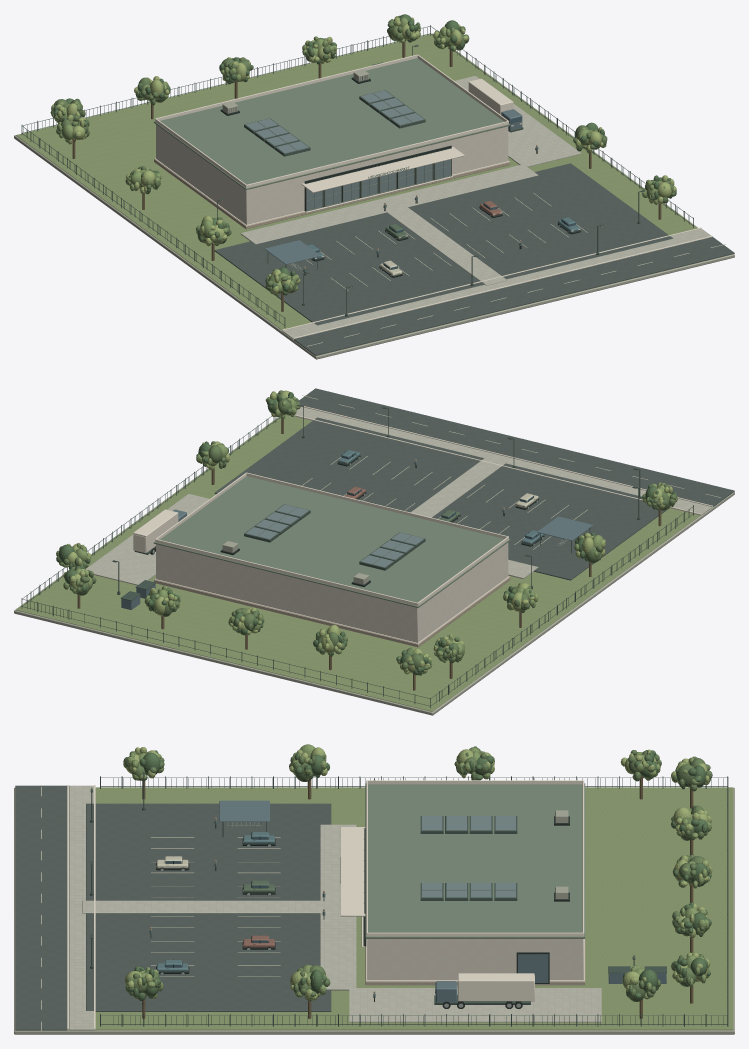
Rendered from supermarket-connected.glb.
3 views of the same model, one above another, from view 1: azimuth 30°, elevation 25°; view 2: azimuth 150°, elevation 25°; view 3: azimuth 270°, elevation 25° (orthographic). The views are drawn at different scales.
Parts seen in each view (by area): view 1: 材质批次_asphalt, 材质批次_grass, 材质批次_sage_metal_roof, 材质批次_plaza_paving, 材质批次_limestone, 材质批次_warm_cream_trim, 材质批次_street_metal, 材质批次_poi_window_lit, 材质批次_poi_service_concrete, 材质批次_leaf_2, 材质批次_leaf_0, 材质批次_leaf_1 (+7 smaller); view 2: 材质批次_grass, 材质批次_asphalt, 材质批次_sage_metal_roof, 材质批次_limestone, 材质批次_plaza_paving, 材质批次_warm_cream_trim, 材质批次_street_metal, 材质批次_poi_service_concrete, 材质批次_leaf_1, 材质批次_leaf_2, 材质批次_leaf_0, 材质批次_leaf_3 (+5 smaller); view 3: 材质批次_asphalt, 材质批次_grass, 材质批次_sage_metal_roof, 材质批次_plaza_paving, 材质批次_warm_cream_trim, 材质批次_limestone, 材质批次_street_metal, 材质批次_poi_service_concrete, 材质批次_leaf_1, 材质批次_leaf_3, 材质批次_leaf_2, 材质批次_leaf_0 (+7 smaller).
Part boxes in pixels (x1=…): 材质批次_asphalt: x1=214, y1=163, x2=734, y2=355; 材质批次_grass: x1=16, y1=33, x2=697, y2=329; 材质批次_sage_metal_roof: x1=153, y1=58, x2=510, y2=189; 材质批次_plaza_paving: x1=240, y1=75, x2=711, y2=338; 材质批次_limestone: x1=156, y1=124, x2=508, y2=224; 材质批次_warm_cream_trim: x1=154, y1=54, x2=712, y2=339; 材质批次_street_metal: x1=21, y1=25, x2=693, y2=327; 材质批次_poi_window_lit: x1=245, y1=90, x2=450, y2=210; 材质批次_poi_service_concrete: x1=14, y1=33, x2=734, y2=359; 材质批次_leaf_2: x1=51, y1=16, x2=676, y2=293; 材质批次_leaf_0: x1=51, y1=17, x2=662, y2=296; 材质批次_leaf_1: x1=51, y1=19, x2=675, y2=293; 材质批次_grass: x1=16, y1=414, x2=699, y2=711; 材质批次_asphalt: x1=214, y1=388, x2=734, y2=580; 材质批次_sage_metal_roof: x1=153, y1=476, x2=510, y2=607; 材质批次_limestone: x1=156, y1=542, x2=508, y2=642; 材质批次_plaza_paving: x1=86, y1=406, x2=711, y2=585; 材质批次_warm_cream_trim: x1=133, y1=406, x2=712, y2=643; 材质批次_street_metal: x1=21, y1=404, x2=693, y2=708; 材质批次_poi_service_concrete: x1=14, y1=417, x2=734, y2=715; 材质批次_leaf_1: x1=56, y1=390, x2=676, y2=674; 材质批次_leaf_2: x1=65, y1=390, x2=678, y2=674; 材质批次_leaf_0: x1=56, y1=395, x2=673, y2=675; 材质批次_leaf_3: x1=58, y1=392, x2=677, y2=675; 材质批次_asphalt: x1=15, y1=785, x2=331, y2=1030; 材质批次_grass: x1=67, y1=787, x2=733, y2=1030; 材质批次_sage_metal_roof: x1=365, y1=783, x2=585, y2=938; 材质批次_plaza_paving: x1=69, y1=785, x2=601, y2=1030; 材质批次_warm_cream_trim: x1=67, y1=780, x2=584, y2=1029; 材质批次_limestone: x1=367, y1=939, x2=583, y2=980; 材质批次_street_metal: x1=90, y1=772, x2=728, y2=1026; 材质批次_poi_service_concrete: x1=14, y1=787, x2=734, y2=1034; 材质批次_leaf_1: x1=125, y1=750, x2=712, y2=1001; 材质批次_leaf_3: x1=123, y1=746, x2=711, y2=1000; 材质批次_leaf_2: x1=125, y1=747, x2=712, y2=1000; 材质批次_leaf_0: x1=123, y1=744, x2=711, y2=1000.
Bounding box in the file's own units: 80.5 × 9.45 × 100.
29 materials, 5 textured.
